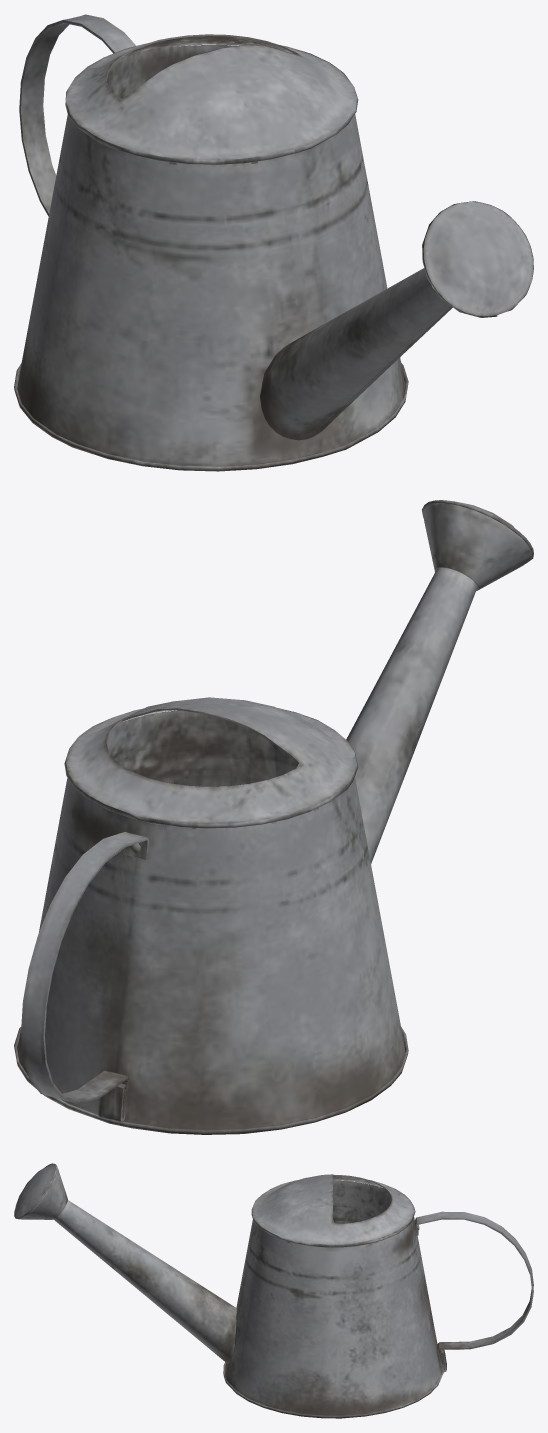
Rendered from watering_can_metal_01.glb.
3 renders of one model, top to bottom at view 1: azimuth 30°, elevation 25°; view 2: azimuth 150°, elevation 25°; view 3: azimuth 270°, elevation 25°, orthographic. The views are drawn at different scales.
Visible parts, largest first — view 1: watering_can_metal_01; view 2: watering_can_metal_01; view 3: watering_can_metal_01.
Boxes of the visible parts, x1,y1,x2,y2 form: watering_can_metal_01: [14, 14, 533, 471]; watering_can_metal_01: [14, 500, 533, 1134]; watering_can_metal_01: [14, 1163, 533, 1418].
Bounding box in the file's own units: 0.1911 × 0.1968 × 0.4523.
Materials: 1 (1 with a texture image).
